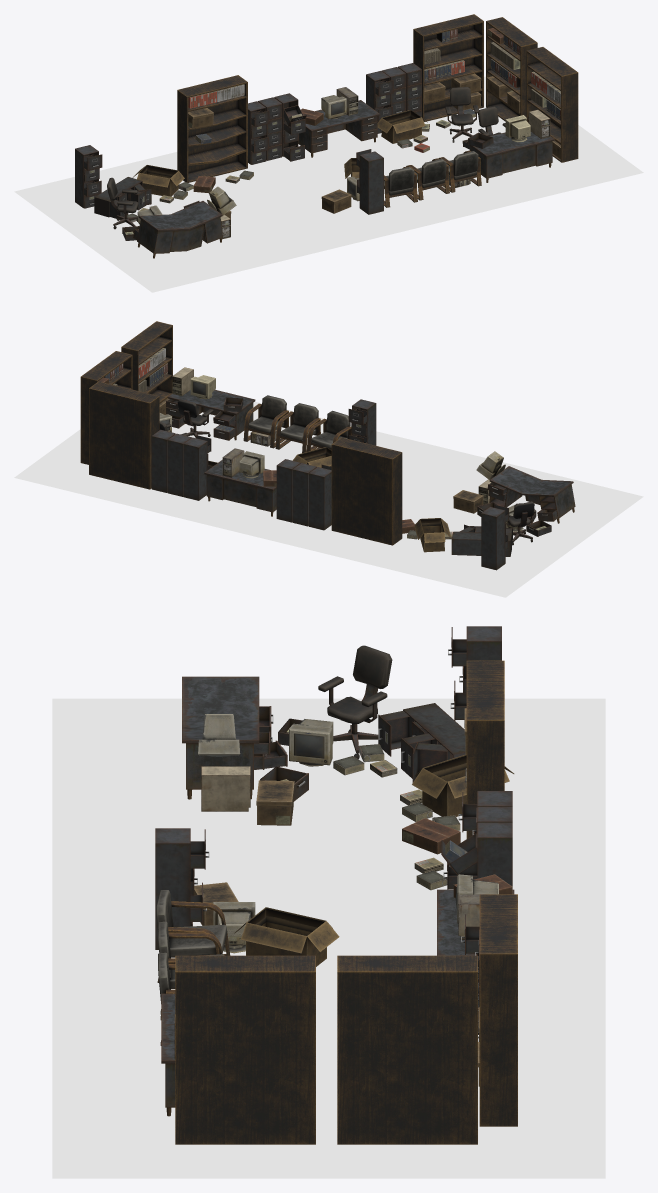
Rendered from ruined-office-furniture.gltf.
3 renders of one model, top to bottom at view 1: azimuth 30°, elevation 25°; view 2: azimuth 150°, elevation 25°; view 3: azimuth 270°, elevation 25°, orthographic. The views are drawn at different scales.
Parts seen in each view (by area): view 1: Plane001, shelf2, shelf1_26, shelf4, desk_closed2, desk_open_65, shelf3, desk_closed_23, cabinet_open2_79, cabinet_open_56, cabinet_closed2, cabinet_broken_59 (+19 smaller); view 2: Plane001, shelf2, shelf1_26, desk_closed2, shelf4, desk_closed_23, desk_open_65, shelf3, cabinet_open_56, cabinet_open5, cabinet_closed3, chair2 (+18 smaller); view 3: Plane001, shelf3, shelf4, shelf1_26, desk_closed2, shelf2, cabinet_broken_59, cabinet_open2_79, box1_122, chair_office2_62, cabinet_closed2, box2_125 (+15 smaller).
Part boxes in pixels (box(x1,y1,x2,y2)): Plane001: box(14, 76, 643, 292); shelf2: box(177, 75, 247, 182); shelf1_26: box(413, 14, 483, 121); shelf4: box(526, 47, 578, 162); desk_closed2: box(133, 201, 222, 258); desk_open_65: box(462, 132, 554, 182); shelf3: box(486, 17, 537, 121); desk_closed_23: box(298, 100, 380, 157); cabinet_open2_79: box(356, 149, 383, 214); cabinet_open_56: box(75, 145, 102, 208); cabinet_closed2: box(274, 93, 306, 161); cabinet_broken_59: box(94, 177, 151, 220); Plane001: box(14, 401, 643, 597); shelf2: box(331, 437, 402, 545); shelf1_26: box(89, 381, 159, 489); desk_closed2: box(487, 466, 575, 523); shelf4: box(121, 321, 172, 414); desk_closed_23: box(204, 459, 276, 516); desk_open_65: box(166, 389, 255, 440); shelf3: box(80, 351, 132, 464); cabinet_open_56: box(481, 504, 508, 570); cabinet_open5: box(183, 435, 211, 500); cabinet_closed3: box(309, 464, 331, 530); chair2: box(275, 403, 320, 453); Plane001: box(52, 698, 605, 1178); shelf3: box(337, 955, 477, 1144); shelf4: box(175, 955, 315, 1144); shelf1_26: box(479, 894, 517, 1126); desk_closed2: box(182, 676, 273, 799); shelf2: box(466, 660, 504, 838); cabinet_broken_59: box(378, 703, 465, 782); cabinet_open2_79: box(155, 828, 209, 949); box1_122: box(234, 907, 339, 966); chair_office2_62: box(318, 645, 392, 759); cabinet_closed2: box(441, 822, 512, 889); box2_125: box(412, 754, 514, 816).
Bounding box in the file's own units: 455 × 76.78 × 222.
Materials: 8 (7 with a texture image).
